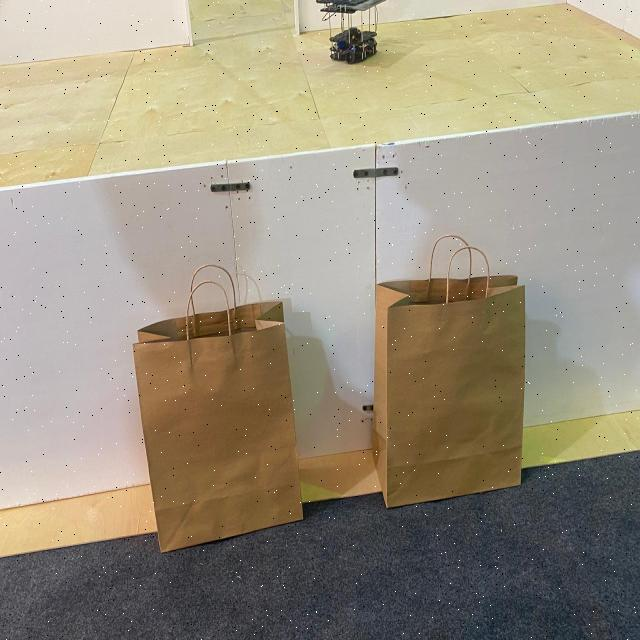paper bag: (132, 264, 304, 552), (372, 235, 525, 508)
